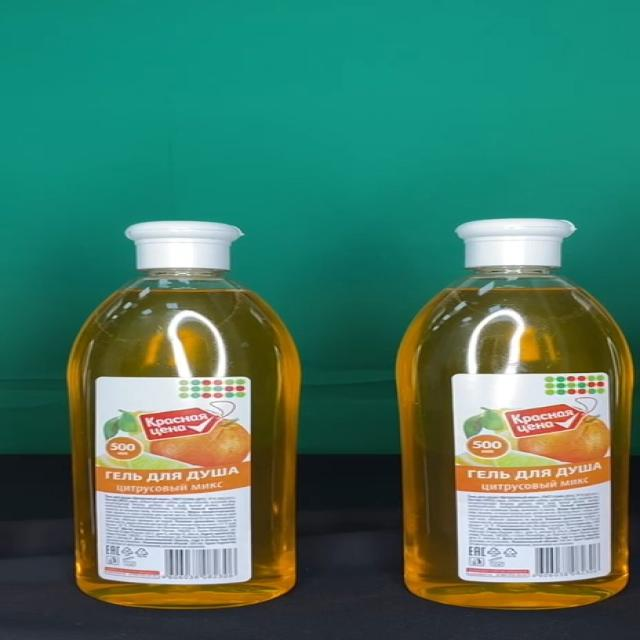Bottle: (395, 219, 633, 610), (66, 221, 303, 609)
Cap: (125, 221, 246, 270), (454, 220, 577, 268)
